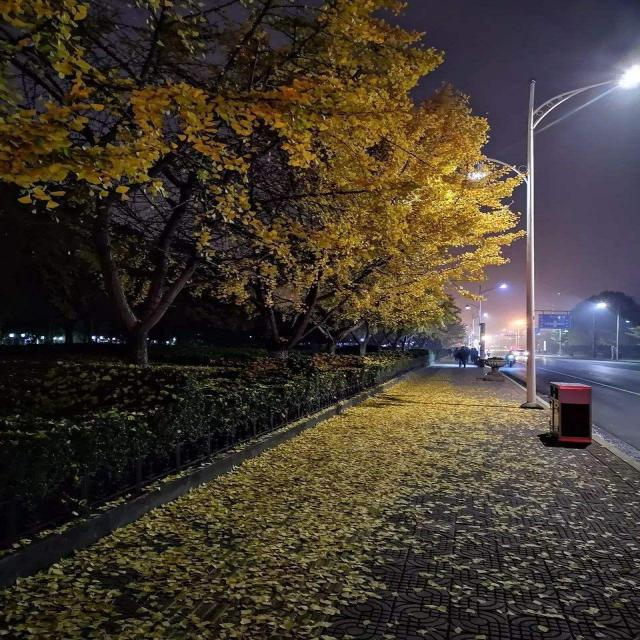other: (242, 74, 495, 314), (455, 306, 556, 361)
